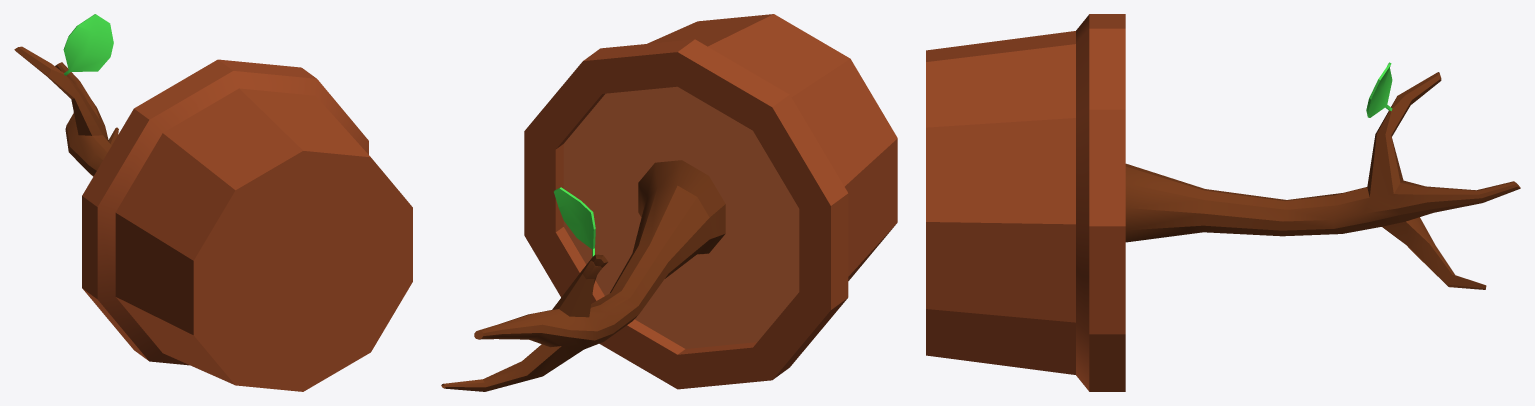
Rendered from Renewal_plant.fbx.
3 views of the same model, side by side, from view 1: azimuth 30°, elevation 25°; view 2: azimuth 150°, elevation 25°; view 3: azimuth 270°, elevation 25° (orthographic). The views are drawn at different scales.
Visible parts, largest first — view 1: Cylinder; view 2: Cylinder; view 3: Cylinder.
Part boxes in pixels (x1,y1,x2,y2): Cylinder: (14,14,412,391); Cylinder: (441,14,897,391); Cylinder: (926,14,1520,391).
Bounding box in the file's own units: 0.3503 × 0.569 × 0.3683.
